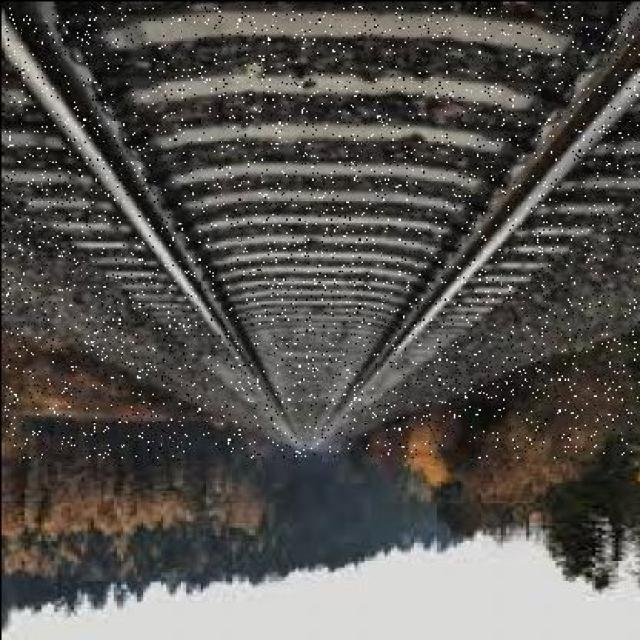rail: (5, 6, 639, 457)
